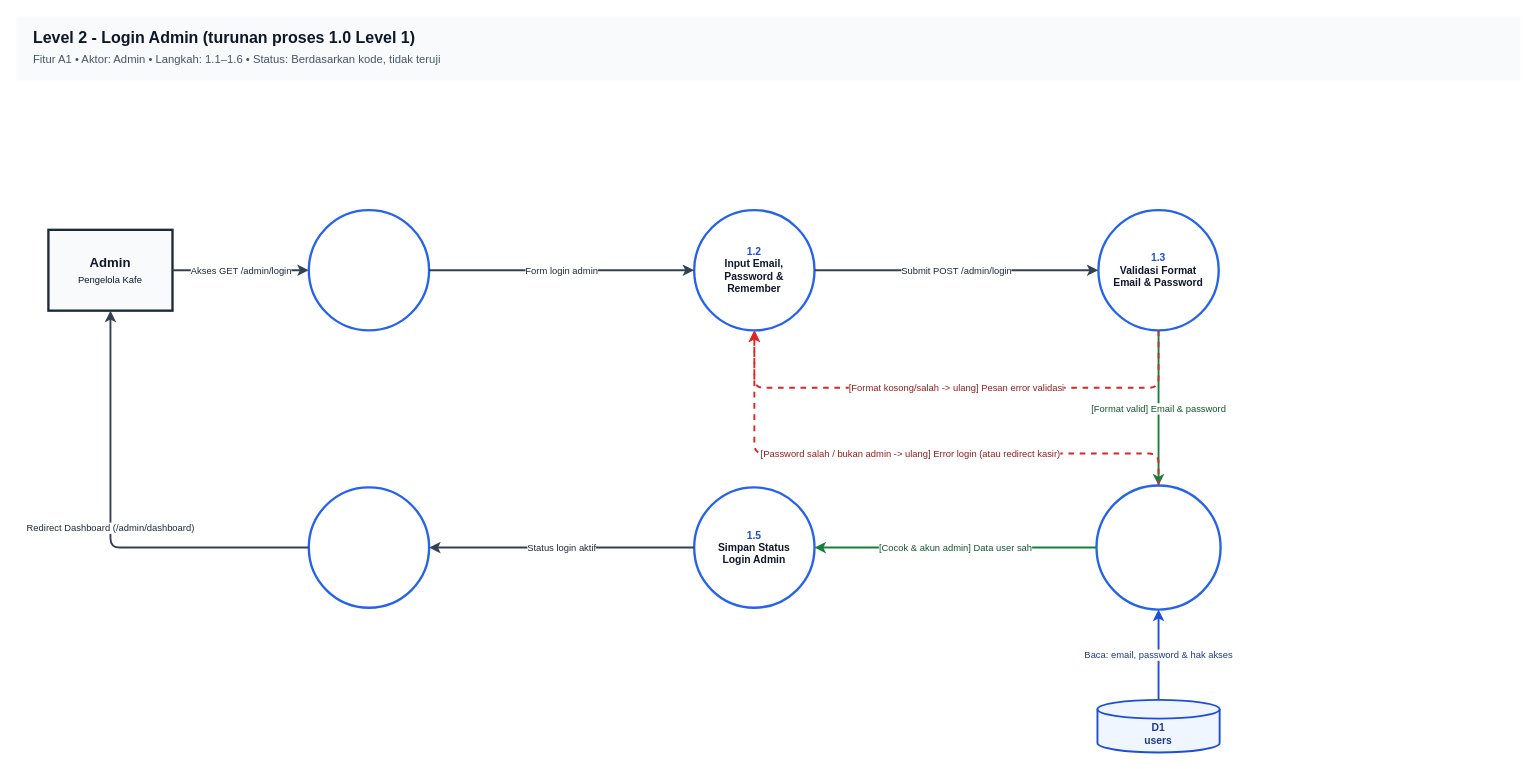
Some shapes in this 1536 by 769 pixel diagram are drawn without their labels. Each missing label, with the centre of its shape:
1.1 Muat Halaman Form Login Admin: the point at 368,269
1.4 Cocokkan Email, Password & Hak Akses Admin: the point at 1158,547
1.6 Arahkan ke Dashboard Admin: the point at 368,547
